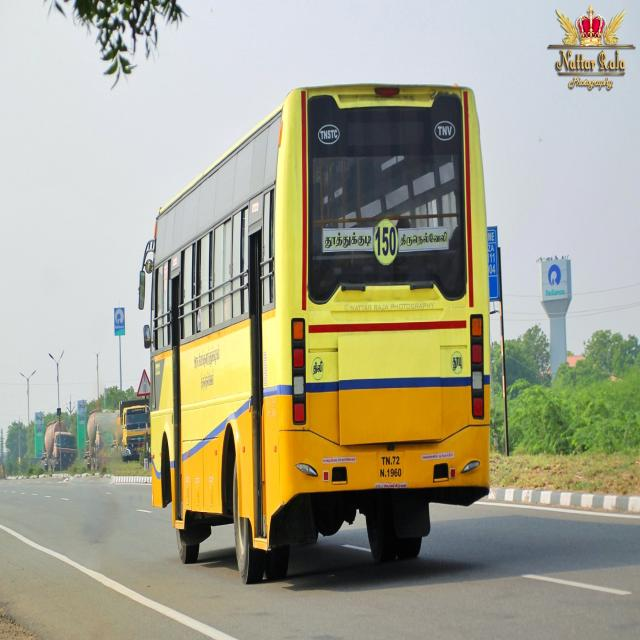Plate: (378, 450, 404, 480)
bus: (150, 80, 492, 585)
